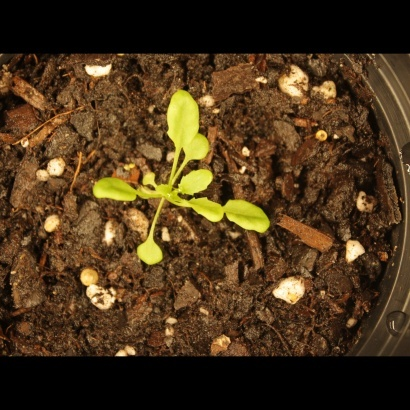leaf: (162, 83, 201, 150), (223, 195, 273, 239), (91, 170, 142, 211), (130, 231, 170, 270), (176, 196, 224, 225), (176, 170, 218, 195), (183, 134, 212, 163), (139, 167, 162, 190)
